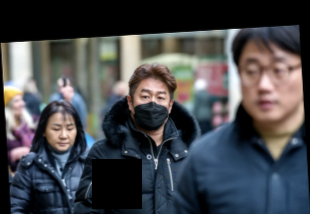with_mask: (131, 85, 173, 130)
without_mask: (238, 51, 302, 123), (45, 119, 78, 150)
